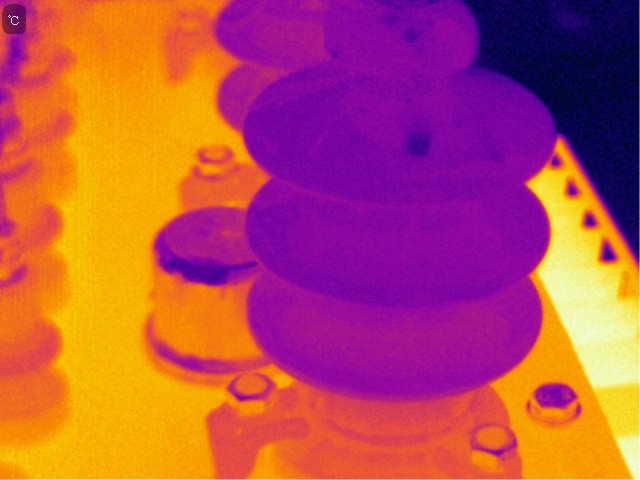Water: (402, 128, 433, 158), (483, 132, 507, 167), (372, 2, 405, 12), (382, 13, 402, 28), (405, 26, 423, 42), (327, 47, 342, 63)
